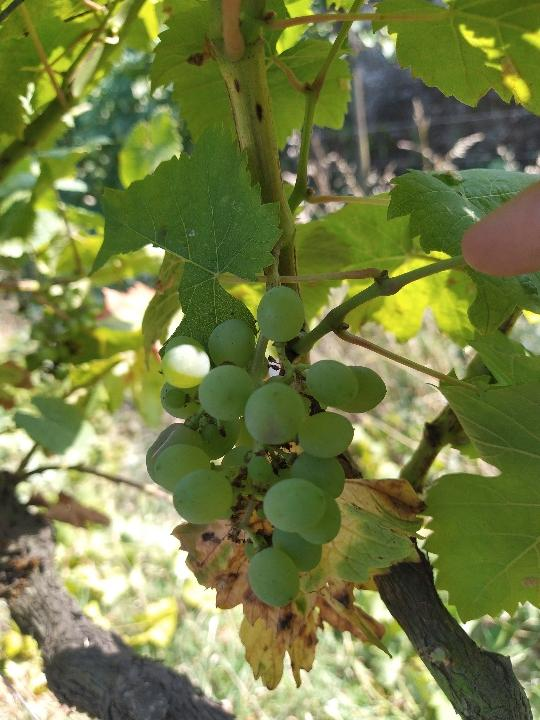grape: (142, 281, 390, 613)
